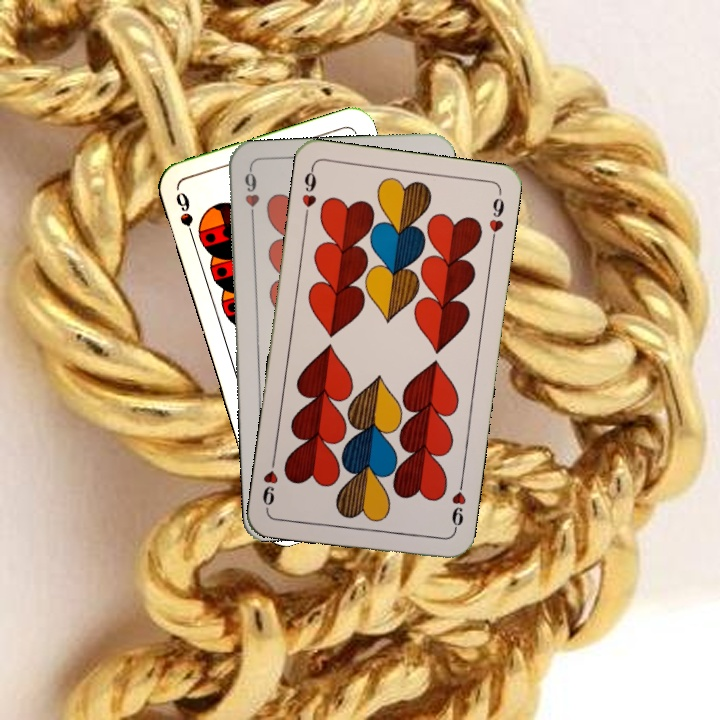H9: (240, 166, 262, 225), (447, 476, 469, 535), (298, 164, 319, 223)
S9: (172, 188, 198, 245)
